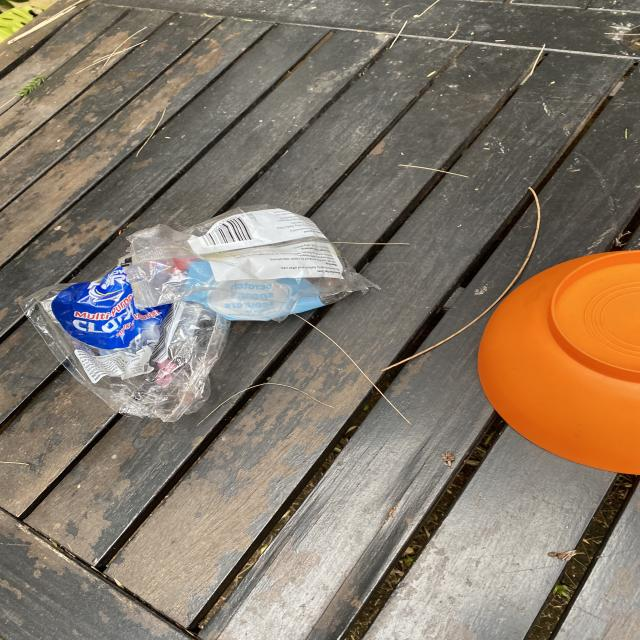bowl: (476, 249, 640, 474)
wrappers: (19, 262, 229, 422), (124, 204, 381, 321)
